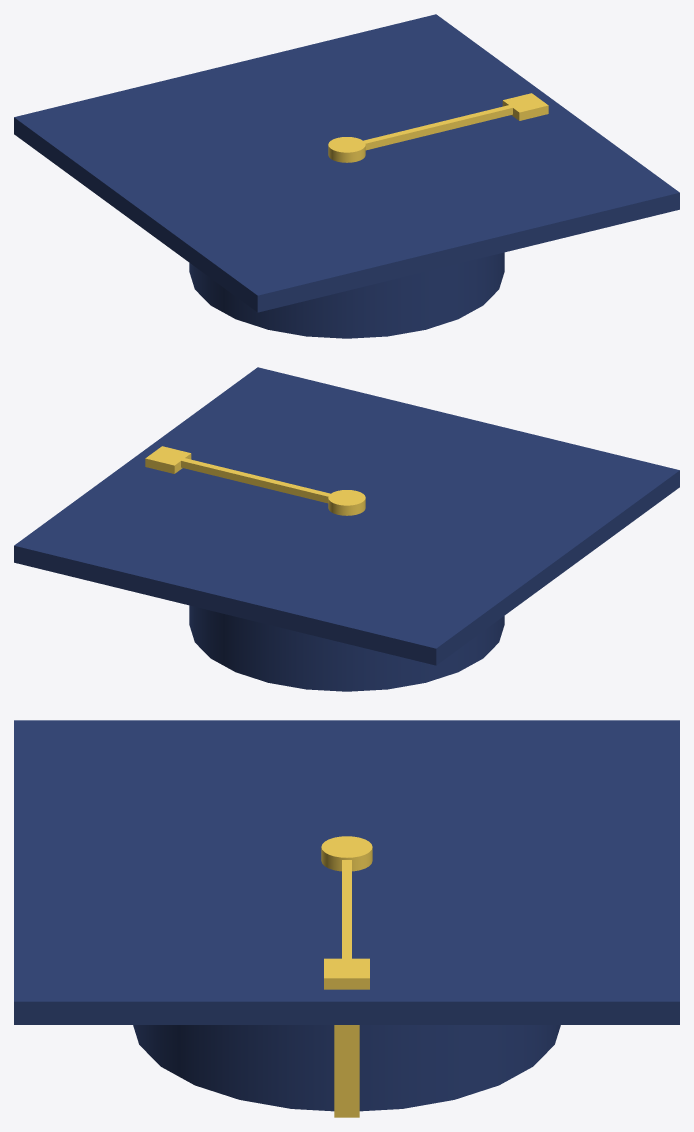
The model's file is toga.glb.
The picture shows the model from 3 angles, top to bottom: view 1: azimuth 30°, elevation 25°; view 2: azimuth 150°, elevation 25°; view 3: azimuth 270°, elevation 25°; orthographic projection. The views are drawn at different scales.
Parts seen in each view (by area): view 1: Board, Cap, Cord, Button, TasselBody; view 2: Board, Cap, Cord, Button, TasselBody; view 3: Board, Cap, TasselBody, Button, Cord.
Boxes of the visible parts, x1,y1,x2,y2 form: Board: (14,14,679,312); Cap: (189,252,504,338); Cord: (363,101,526,150); Button: (328,137,365,162); TasselBody: (502,93,548,120); Board: (14,367,679,665); Cap: (189,605,504,691); Cord: (168,454,330,503); Button: (328,490,365,515); TasselBody: (145,446,191,473); Board: (14,720,679,1024); Cap: (133,1025,560,1111); TasselBody: (324,958,369,1117); Button: (321,836,372,871); Cord: (342,860,351,967).
Size of the model in its own units: 1.3 by 0.375 by 1.3.
